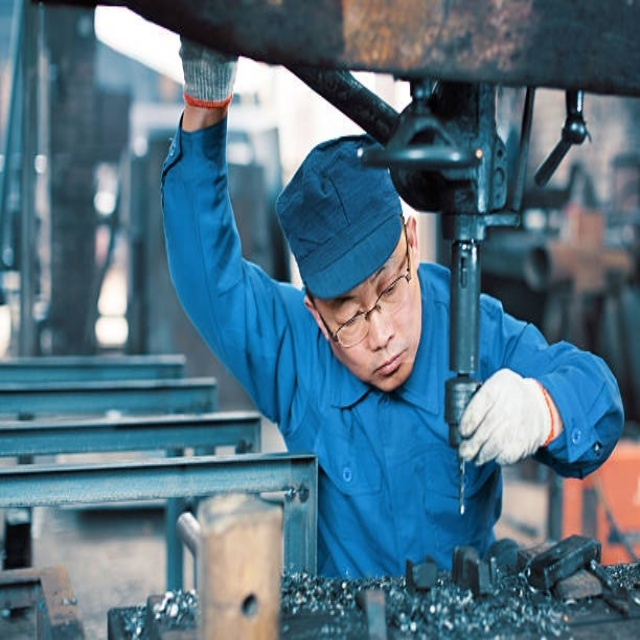Gafas: (314, 222, 412, 348)
Guantes: (456, 368, 554, 469), (180, 35, 239, 108)
Sin_mascara: (368, 344, 417, 392)
